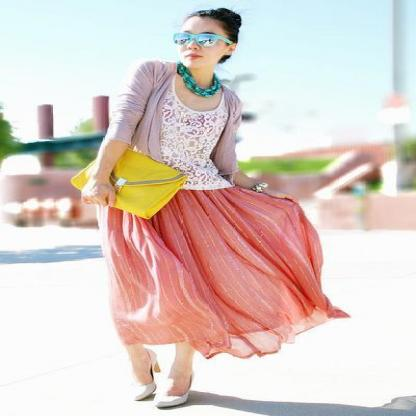bag: (71, 148, 187, 218)
jacket: (100, 62, 252, 203)
shirt: (162, 100, 238, 189)
shoe: (120, 379, 211, 407)
skirt: (107, 189, 350, 357)
